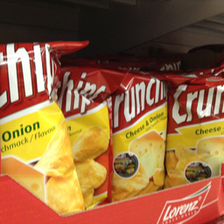chips: (1, 41, 93, 215), (108, 74, 168, 196), (59, 66, 110, 206), (166, 74, 224, 191)
